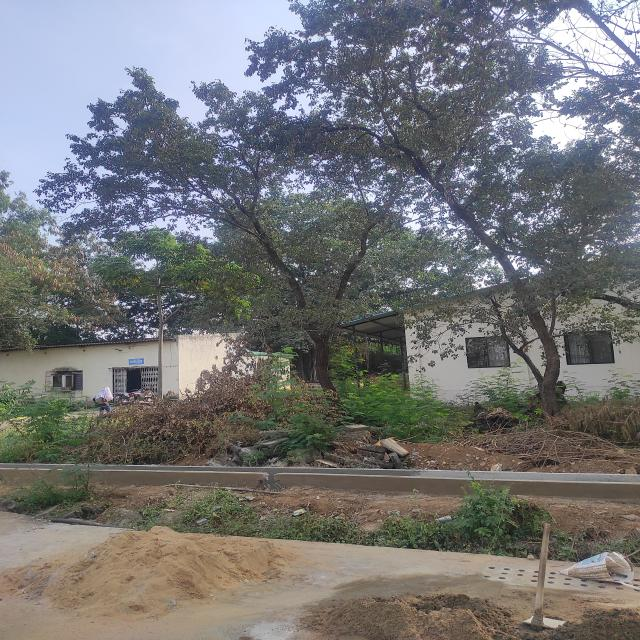Devakanchan tree: (110, 93, 566, 376)
